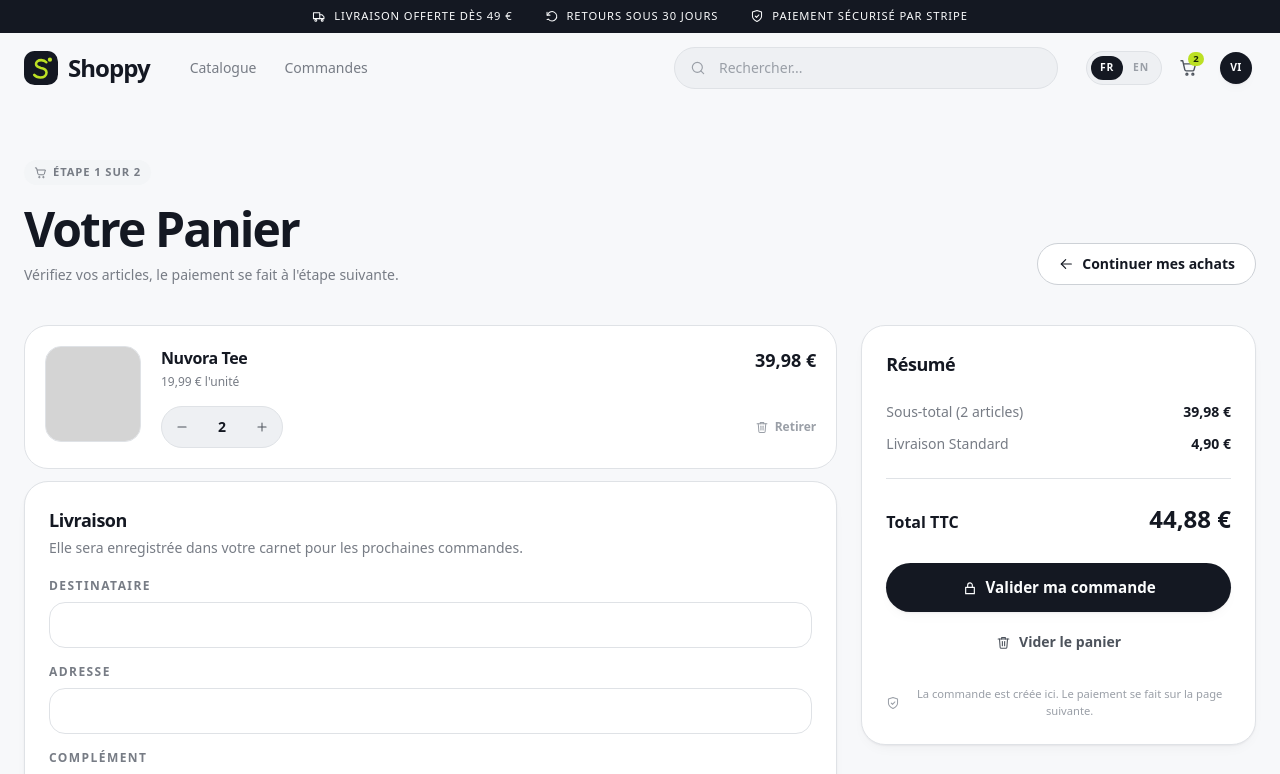
it: CartPage › creates an order from checkout
The width and height of the screenshot is (1280, 774).
Expected: the button "Valider ma commande" is shown, [886,563,1231,612]
Step 1. Type "Ada Lovelace" into the field labelled "Destinataire" → (431,625), box [49,602,812,648]
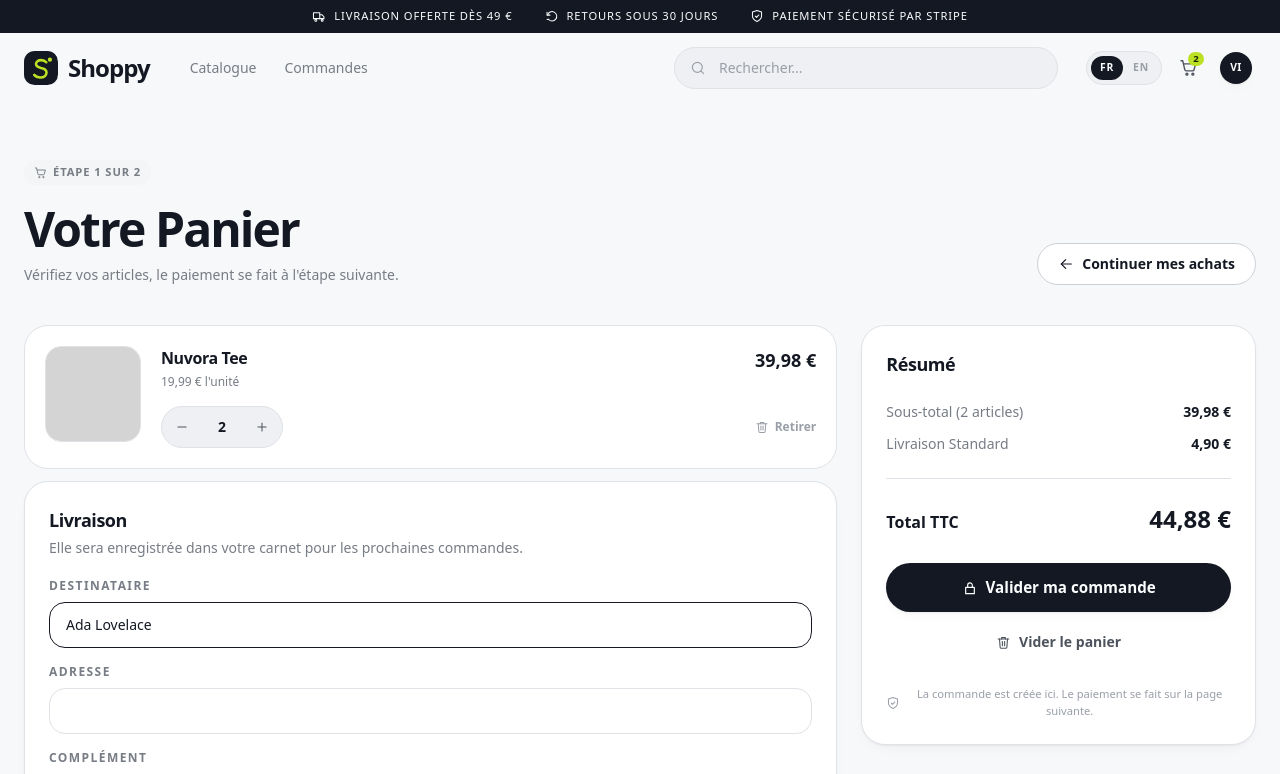
Step 2. Type "10 rue de la Paix" into the field labelled "Adresse" → (431,711), box [49,688,812,734]
(page scrolled)
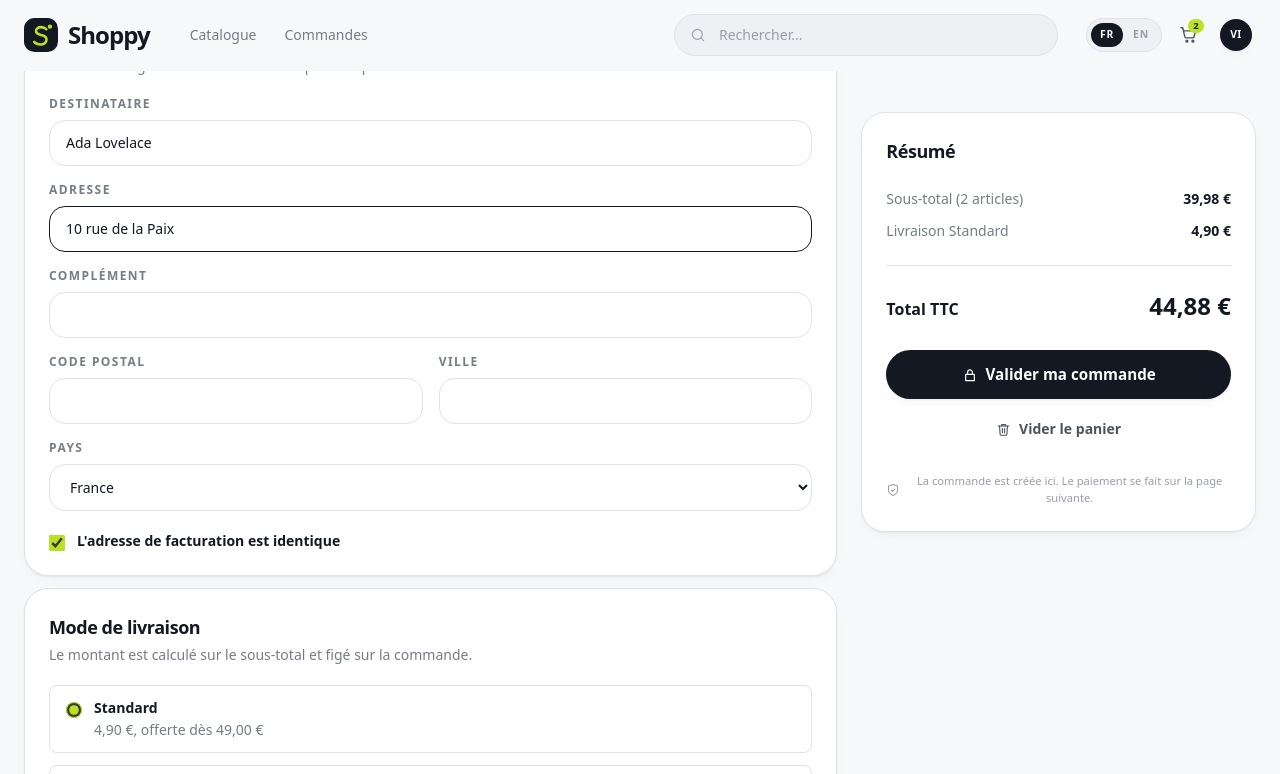
Step 3. Type "75002" into the field labelled "Code postal" → (236,401), box [49,378,423,424]
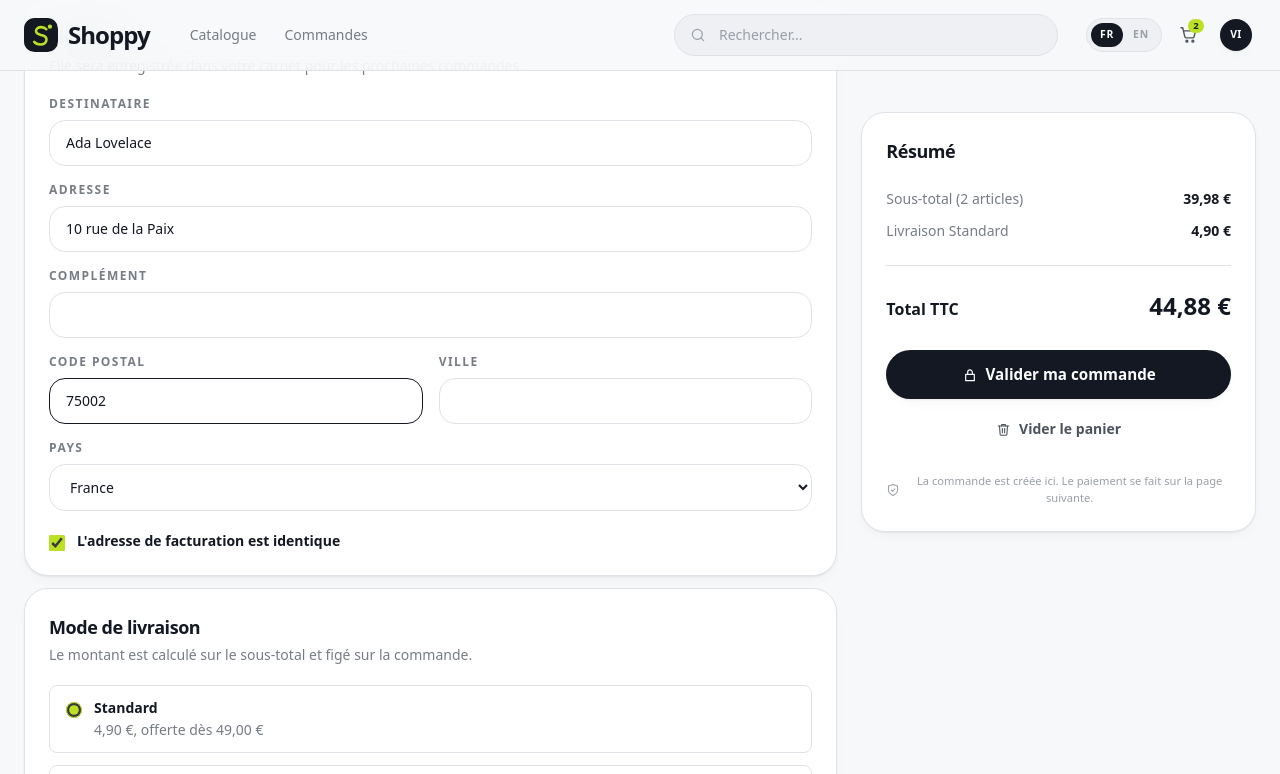
Step 4. Type "Paris" into the field labelled "Ville" → (626,401), box [439,378,812,424]
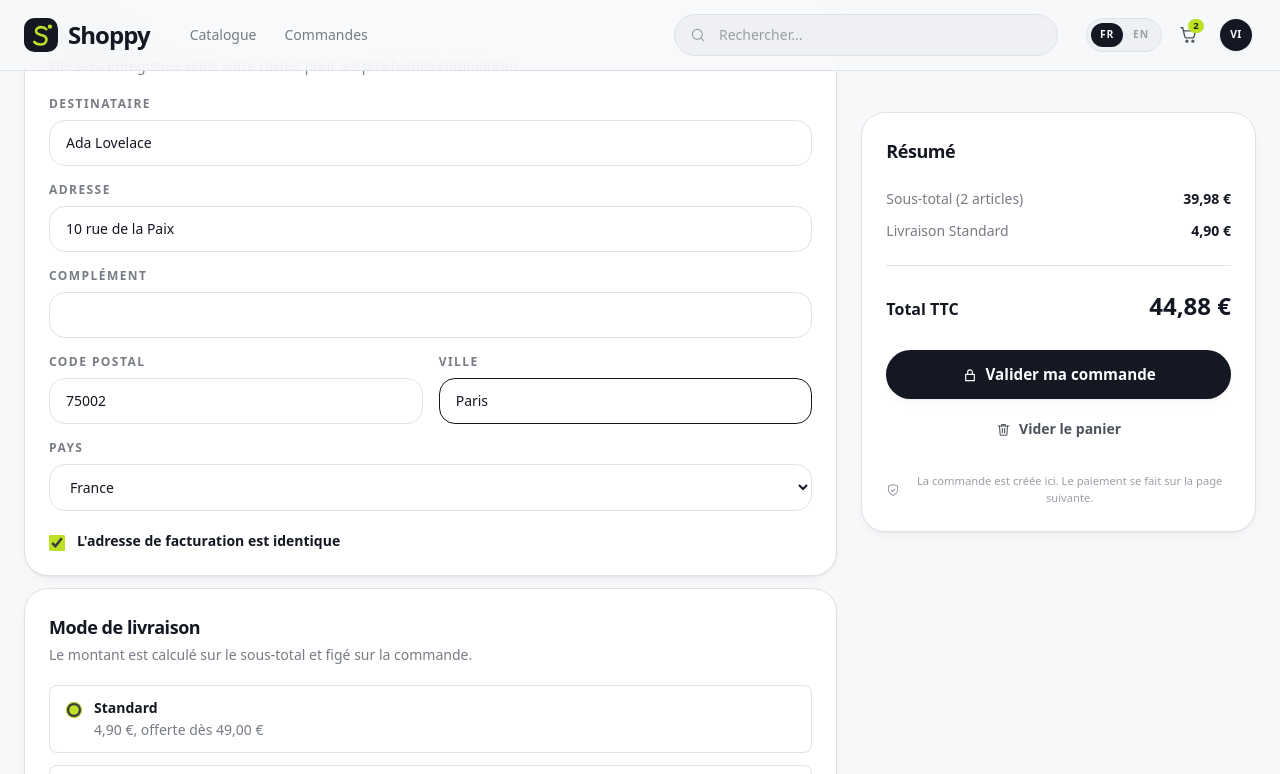
Step 5. Click the button "Valider ma commande" → (1059,375), box [886,350,1231,400]
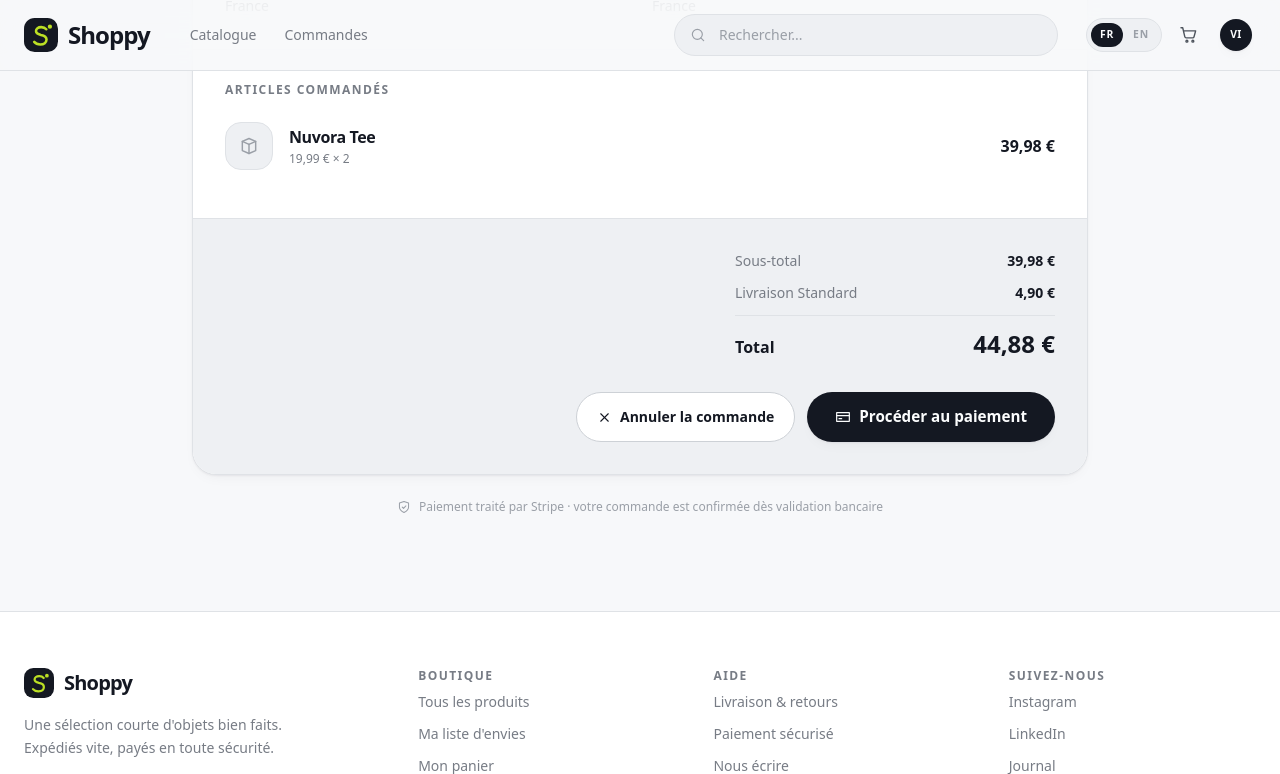
Now the button "Procéder au paiement" is shown, box [807,392,1055,442]
